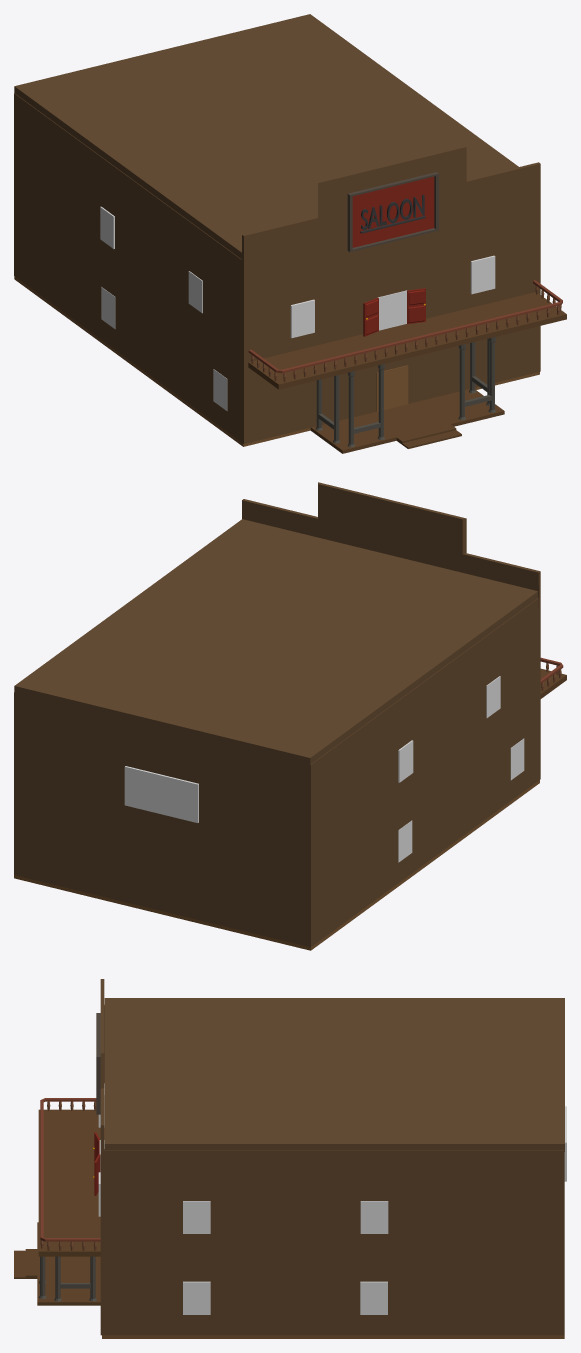
File: Map_finished.fbx
3 renders of one model, top to bottom at view 1: azimuth 30°, elevation 25°; view 2: azimuth 150°, elevation 25°; view 3: azimuth 270°, elevation 25°, orthographic.
Parts seen in each view (by area): view 1: Building, Roof, FloorUpper, FloorLower, Sign, BooleanWindow, Pillars.001, FenceBalcony, BalconyDoors, BooleanFront, Text, BooleanBalcony; view 2: Building, Roof, BooleanWindow, FloorLower; view 3: Building, Roof, FloorUpper, FloorLower, BooleanWindow, FenceBalcony, Pillars.001, Sign.
Part boxes in pixels (<box>): Building: <box>14,93,540,443</box>; Roof: <box>14,14,518,259</box>; FloorUpper: <box>248,292,566,389</box>; FloorLower: <box>14,276,539,453</box>; Sign: <box>347,172,438,251</box>; BooleanWindow: <box>100,206,495,410</box>; Pillars.001: <box>315,337,495,447</box>; FenceBalcony: <box>248,280,562,381</box>; BalconyDoors: <box>363,288,425,336</box>; BooleanFront: <box>376,365,408,411</box>; Text: <box>360,195,425,233</box>; BooleanBalcony: <box>378,290,406,330</box>; Building: <box>14,482,540,947</box>; Roof: <box>14,519,537,765</box>; BooleanWindow: <box>124,676,524,862</box>; FloorLower: <box>14,780,539,950</box>; Building: <box>100,979,564,1335</box>; Roof: <box>104,998,564,1151</box>; FloorUpper: <box>38,1109,104,1256</box>; FloorLower: <box>14,1222,564,1338</box>; BooleanWindow: <box>98,1083,566,1314</box>; FenceBalcony: <box>40,1098,100,1250</box>; Pillars.001: <box>39,1256,96,1301</box>; Sign: <box>96,1013,100,1114</box>.
Bounding box in the file's own units: 84.93 × 67 × 135.
